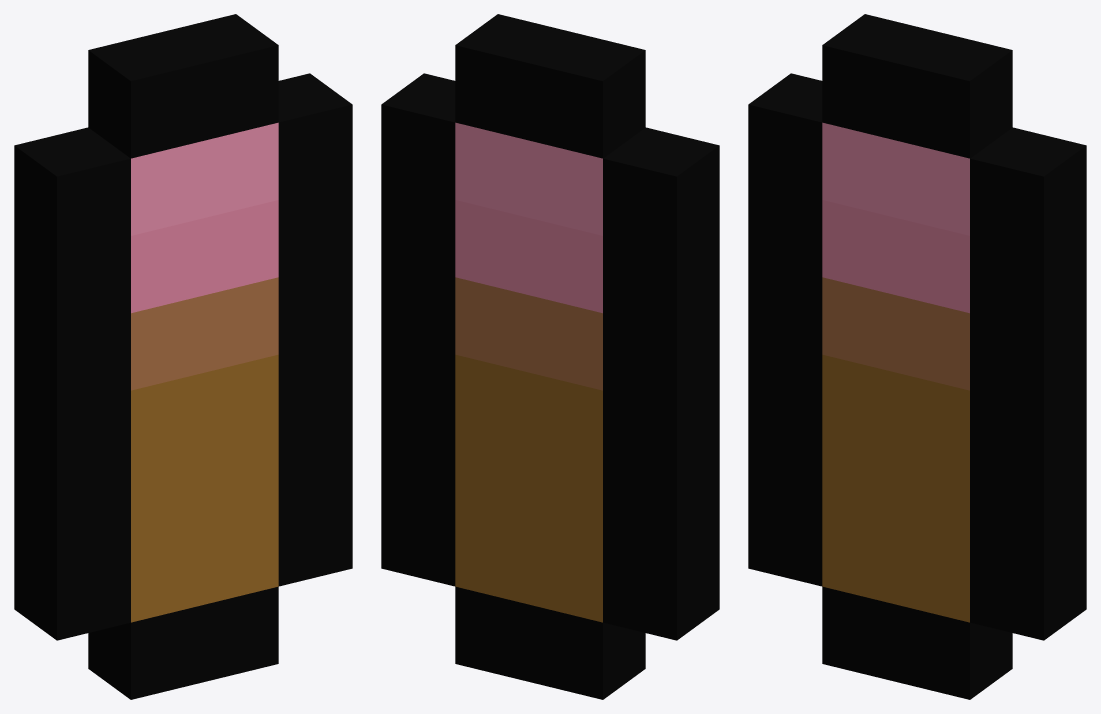
The model's file is Pink Torch.glb.
The picture shows the model from 3 angles, left to right: view 1: azimuth 30°, elevation 25°; view 2: azimuth 150°, elevation 25°; view 3: azimuth 330°, elevation 25°; orthographic projection.
Visible parts, largest first — view 1: generated(Clone); view 2: generated(Clone); view 3: generated(Clone).
Boxes of the visible parts, x1,y1,x2,y2 form: generated(Clone): (14, 14, 352, 699); generated(Clone): (381, 14, 719, 699); generated(Clone): (748, 14, 1086, 699).
Size of the model in its own units: 4 by 8 by 1.
Materials: 1 (1 with a texture image).
